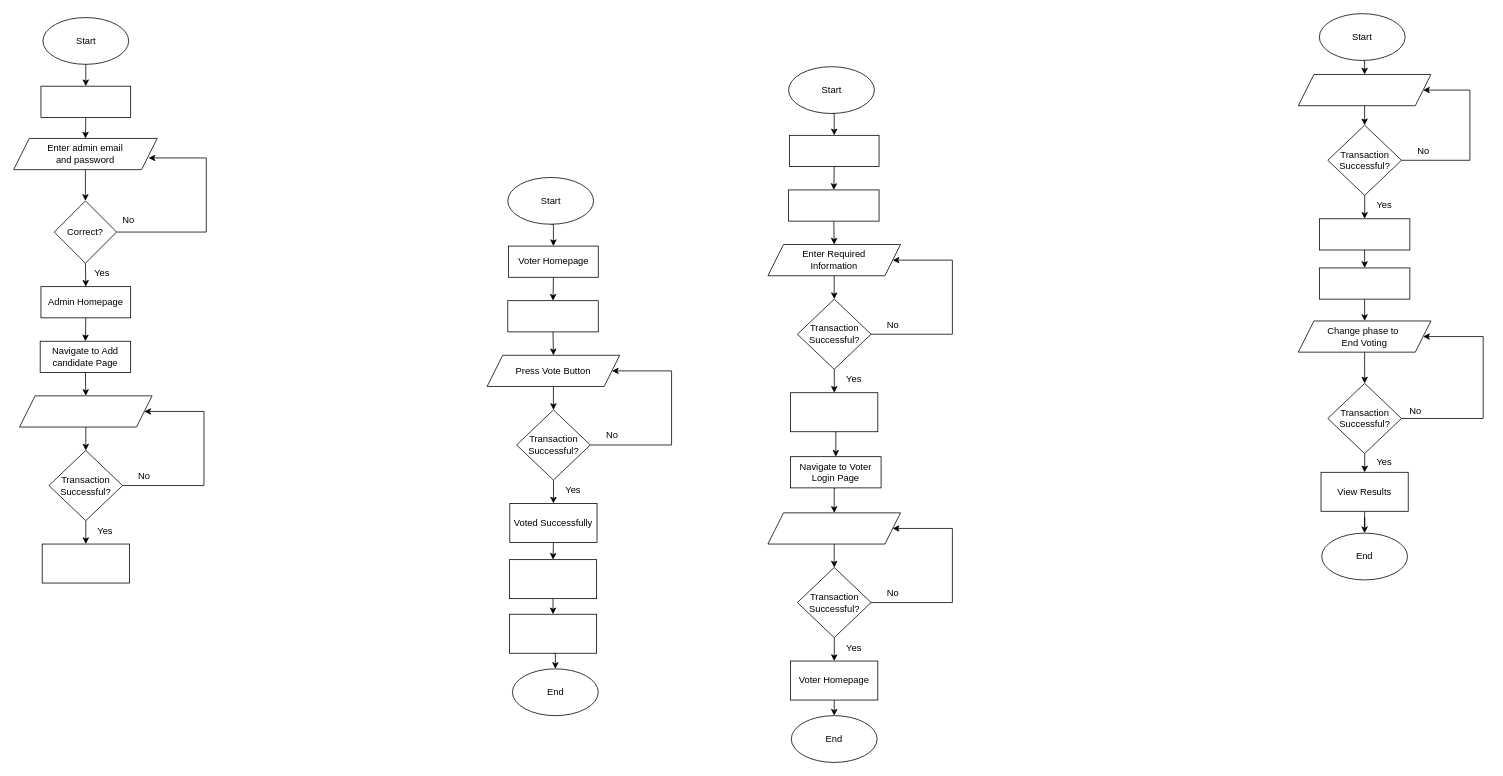
Image size: 1503x776. Some labels were removed from this diagram. Each missing label, with the centre of its shape:
Candidate Added successfully: the point at 85,563
Change phase to Start Voting: the point at 1364,90
Enter Candidate Name: the point at 85,411
Enter Login Credentials: the point at 834,528
Landing Page: the point at 834,151
Monitor Voters: the point at 1364,283
Navigate to Admin Login Page: the point at 85,101
Navigate to Voter Registration Page: the point at 833,205
Navigate to Voter's Overview Tab: the point at 1364,234
Select Candidate to Vote: the point at 552,316
Viewing Results: the point at 553,633
Voter Registered Successfully: the point at 834,412
Waiting for Election to End: the point at 553,579
